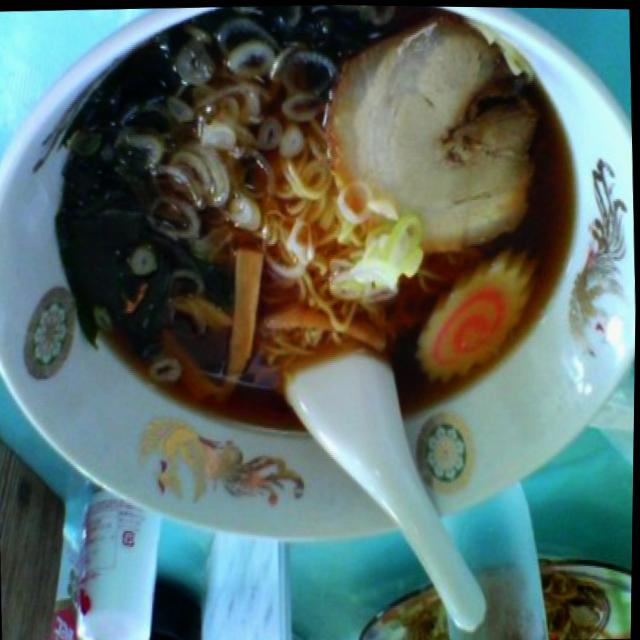面条主食: (28, 0, 618, 470)
